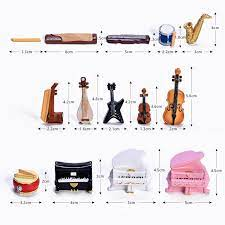Piano: (43, 151, 130, 215)
Saxophone: (178, 2, 224, 76)
Violin: (129, 75, 167, 146)
